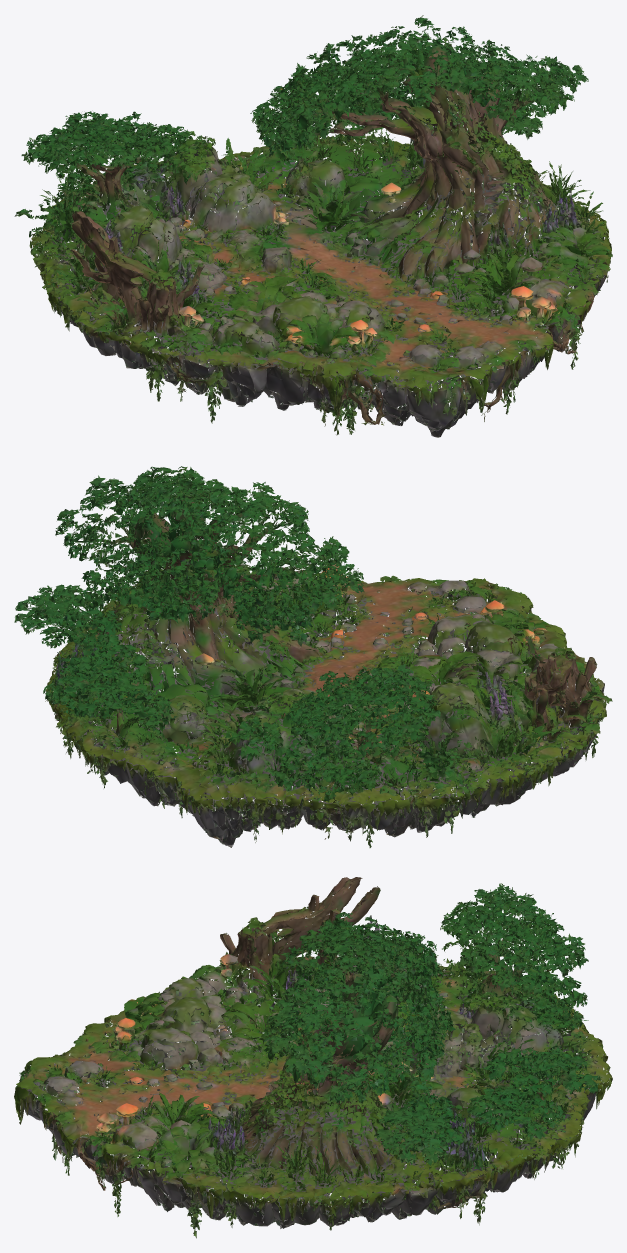
Rendered from forest.glb.
3 renders of one model, top to bottom at view 1: azimuth 30°, elevation 25°; view 2: azimuth 150°, elevation 25°; view 3: azimuth 270°, elevation 25°, orthographic.
Visible parts, largest first — view 1: forest; view 2: forest; view 3: forest.
Part boxes in pixels (left/top/right/bottom): forest: left=14, top=15, right=612, bottom=437; forest: left=14, top=466, right=612, bottom=847; forest: left=14, top=877, right=612, bottom=1238.
Bounding box in the file's own units: 1.85 × 0.9366 × 1.88.
1 material, 1 textured.
